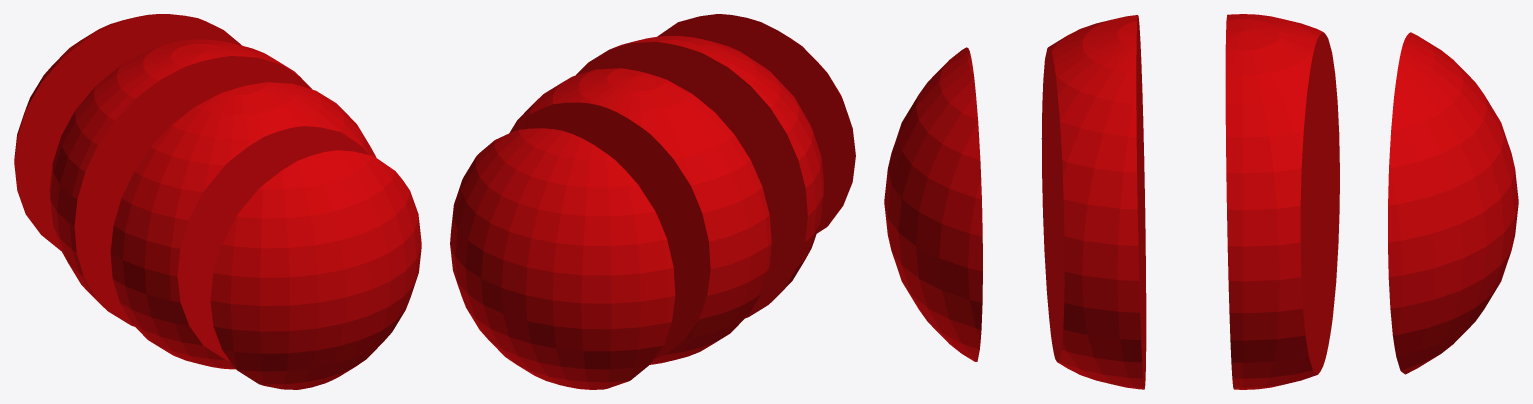
File: tomatocortado.fbx
3 renders of one model, left to right at view 1: azimuth 30°, elevation 25°; view 2: azimuth 150°, elevation 25°; view 3: azimuth 270°, elevation 25°, orthographic. The views are drawn at different scales.
Visible parts, largest first — view 1: Sphere.003; view 2: Sphere.003; view 3: Sphere.003.
Boxes of the visible parts, box(x1,y1,x2,y2) form: Sphere.003: box(14, 14, 421, 389); Sphere.003: box(450, 14, 855, 389); Sphere.003: box(884, 14, 1518, 389).
Bounding box in the file's own units: 200 × 200 × 337.
